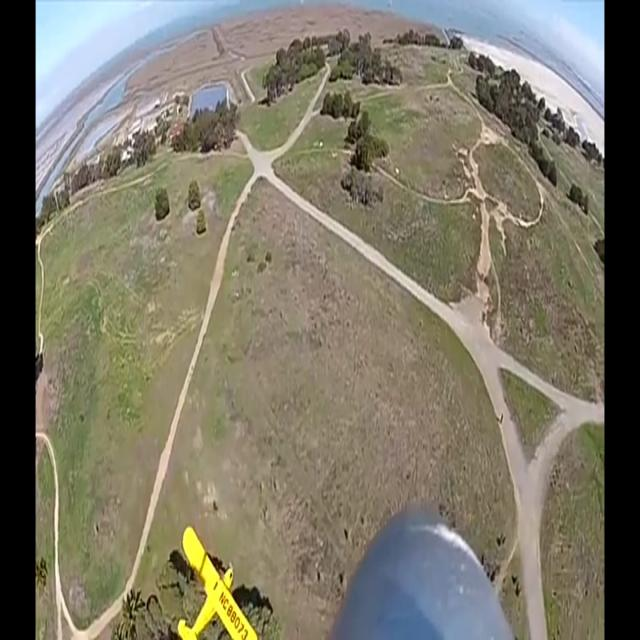iha: (209, 554, 227, 608)
